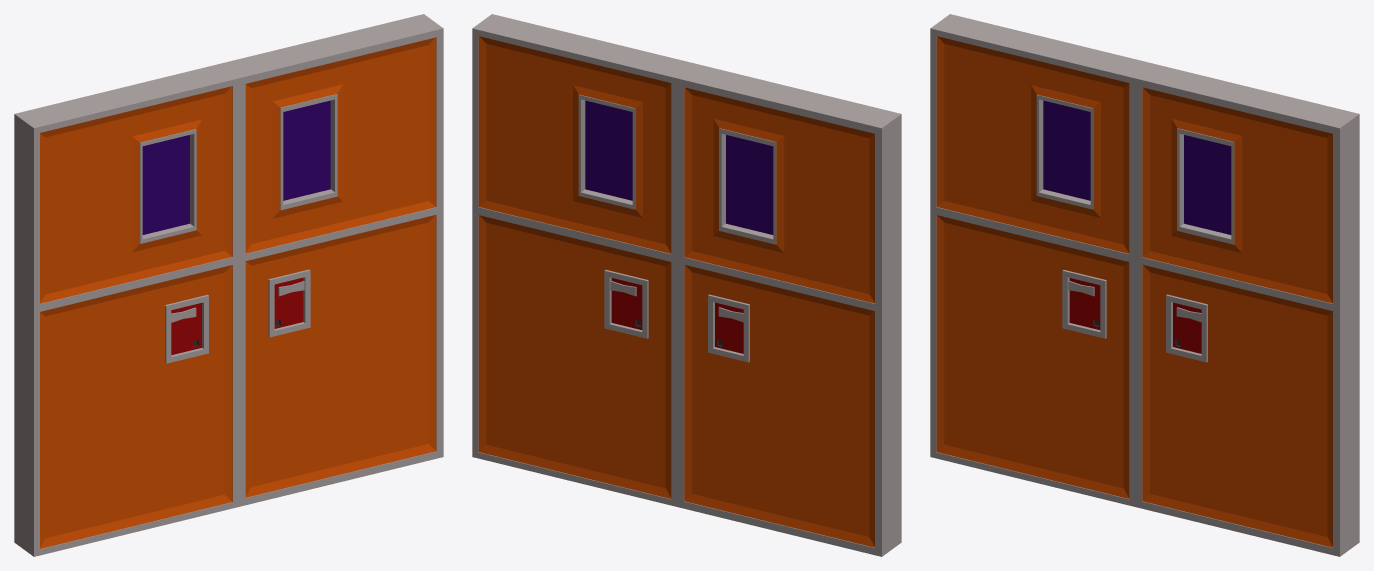
Rendered from HeavyDoors.fbx.
3 views of the same model, side by side, from view 1: azimuth 30°, elevation 25°; view 2: azimuth 150°, elevation 25°; view 3: azimuth 330°, elevation 25° (orthographic).
Parts seen in each view (by area): view 1: HeavyDoorL, HeavyDoorR; view 2: HeavyDoorL, HeavyDoorR; view 3: HeavyDoorR, HeavyDoorL.
Boxes of the visible parts, x1,y1,x2,y2 form: HeavyDoorL: [14, 64, 238, 556]; HeavyDoorR: [219, 14, 443, 506]; HeavyDoorL: [677, 64, 901, 556]; HeavyDoorR: [472, 14, 696, 506]; HeavyDoorR: [1135, 64, 1359, 556]; HeavyDoorL: [930, 14, 1154, 506].
Size of the model in its own units: 600 by 600 by 50.
